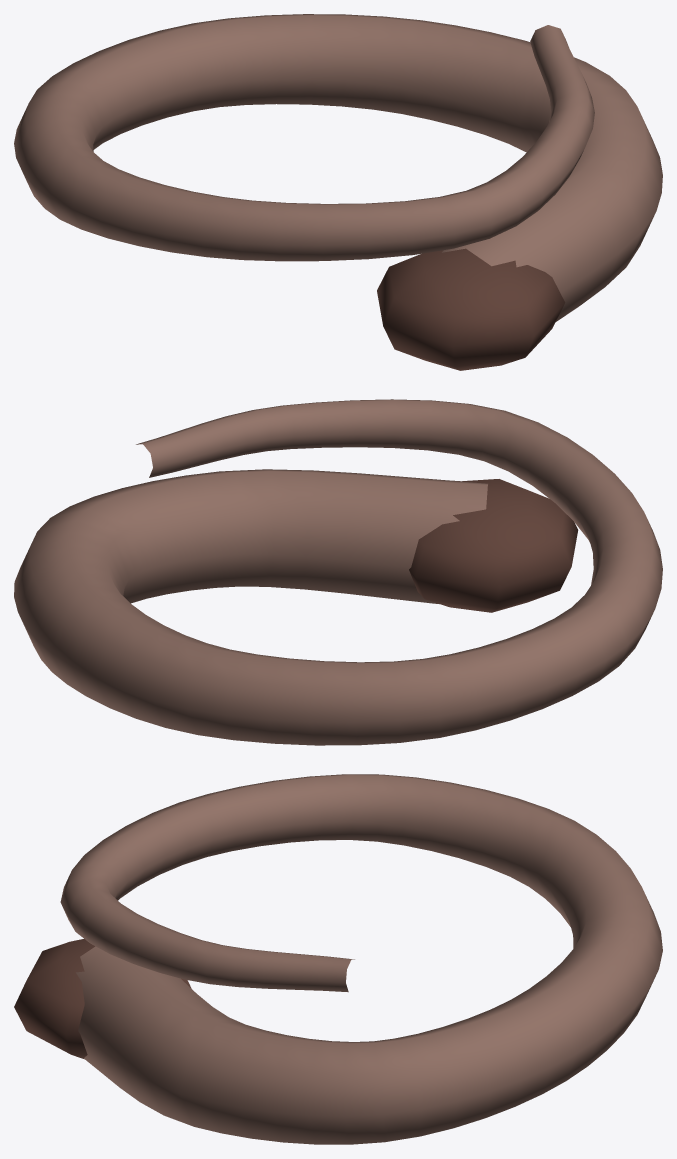
The model's file is ular.glb.
3 renders of one model, top to bottom at view 1: azimuth 30°, elevation 25°; view 2: azimuth 150°, elevation 25°; view 3: azimuth 270°, elevation 25°, orthographic. The views are drawn at different scales.
Bounding box in the file's own units: 0.9751 × 0.3214 × 0.978.
